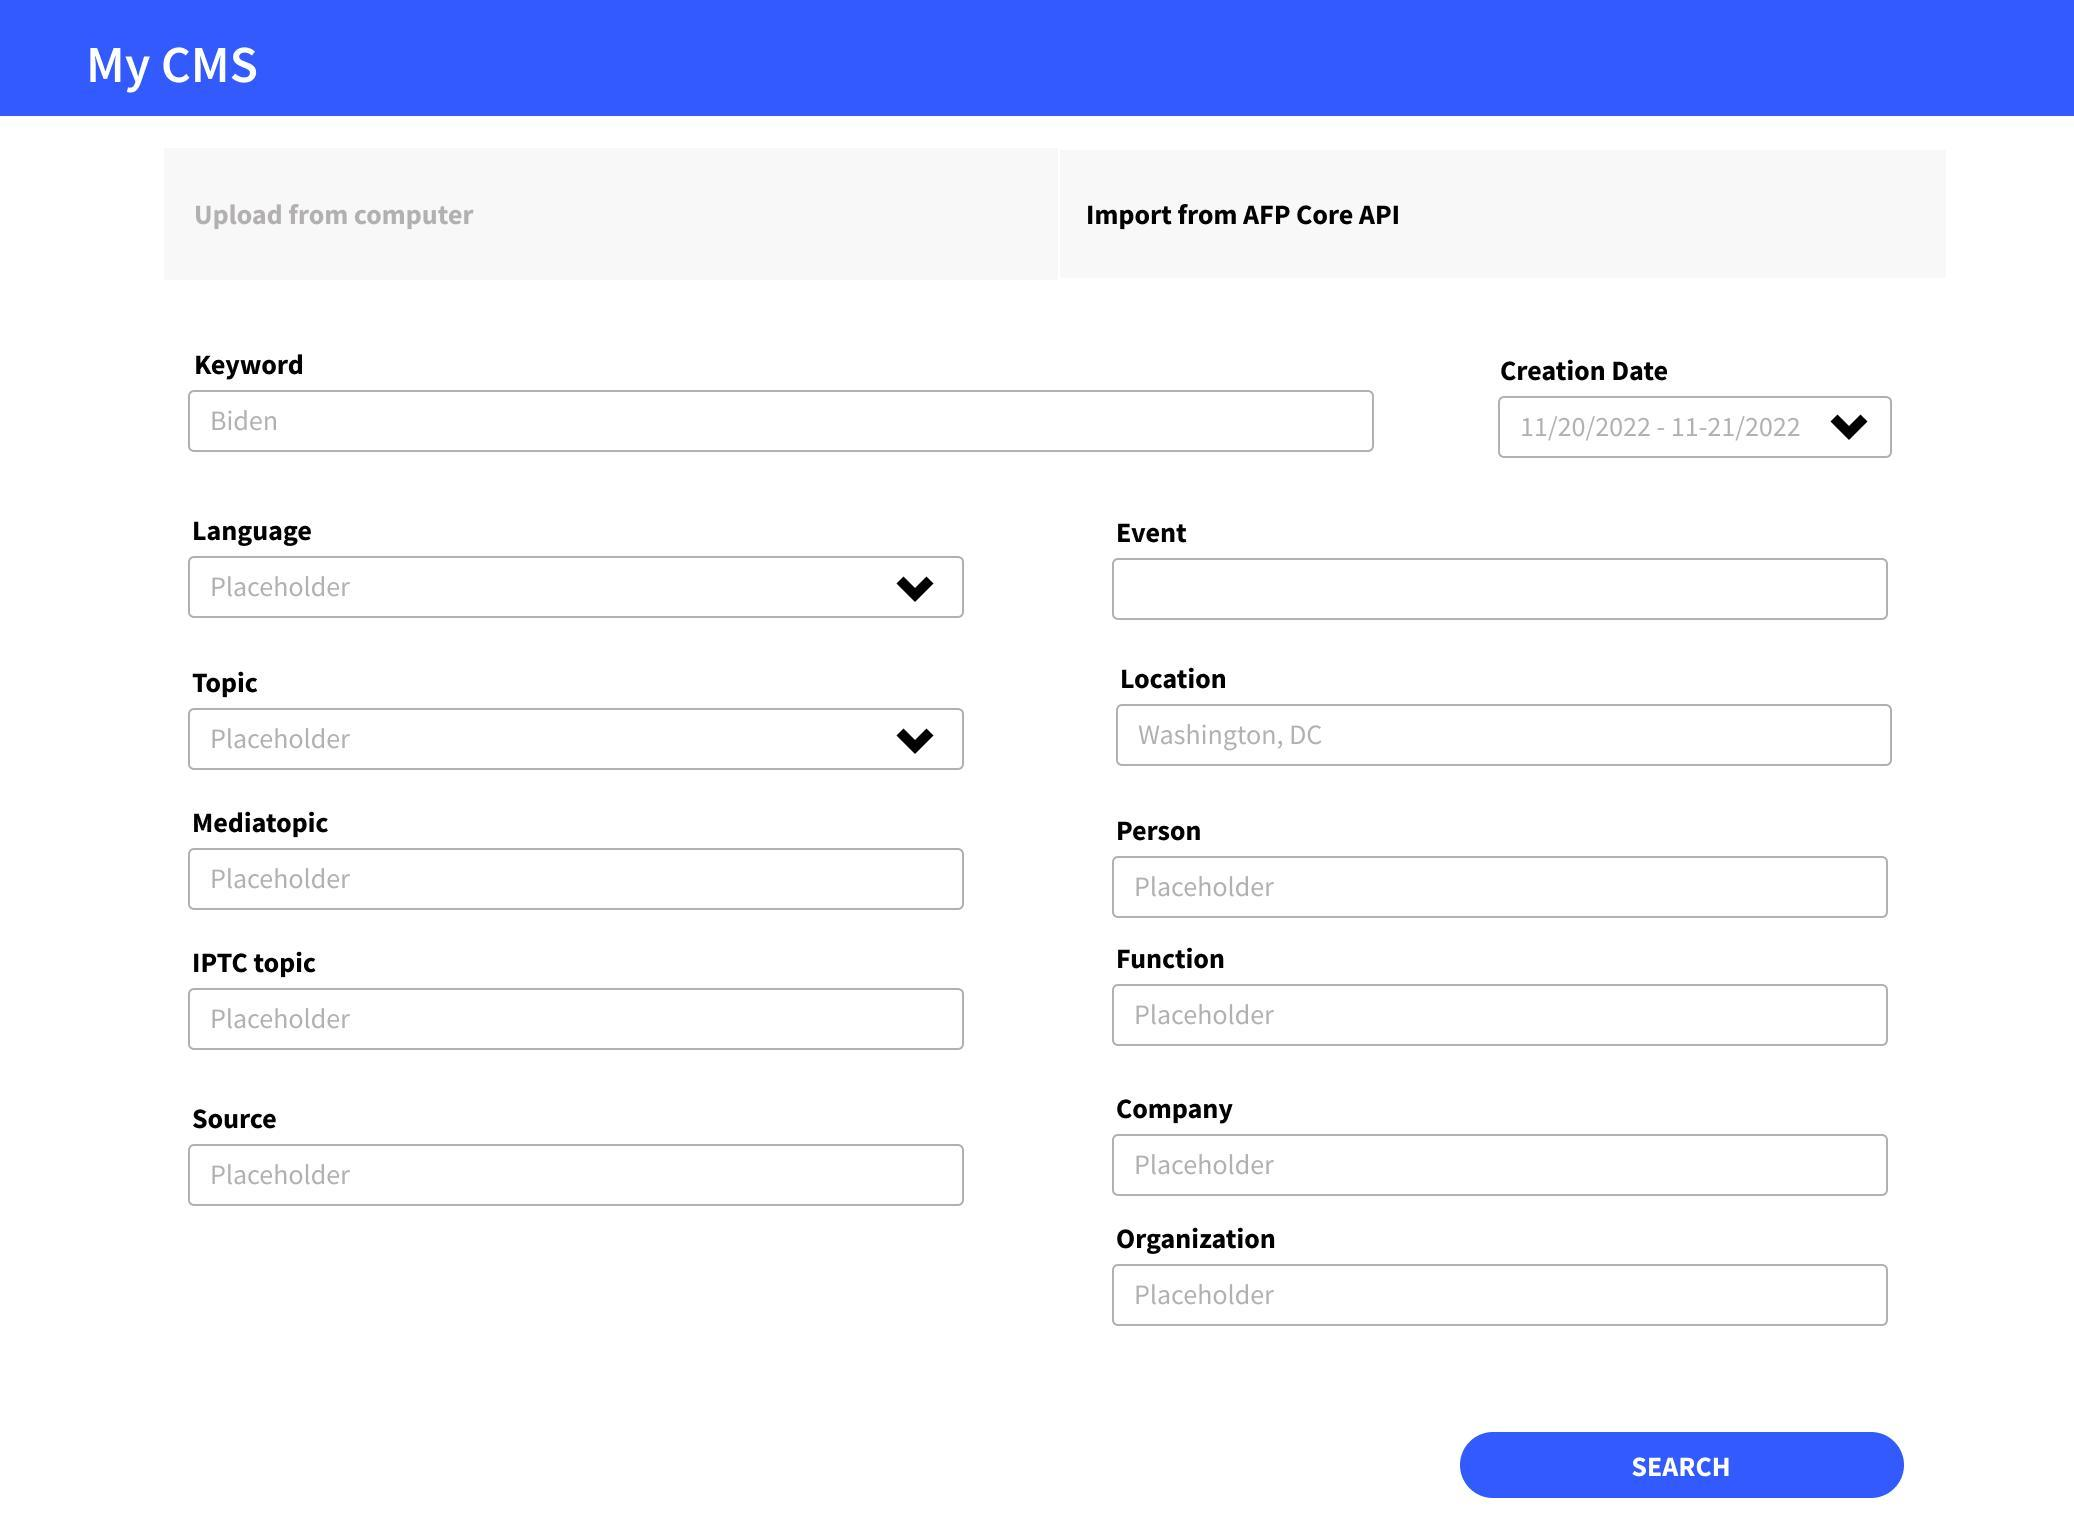button: (1460, 1434, 1910, 1500)
dropdown: (188, 707, 966, 772), (188, 557, 966, 620), (1499, 396, 1894, 459)
input: (188, 391, 1377, 454), (1113, 984, 1890, 1049), (1113, 855, 1890, 920), (1116, 704, 1894, 768), (1113, 557, 1890, 622), (1113, 1134, 1889, 1199), (1113, 1265, 1890, 1327), (188, 988, 965, 1050), (188, 1145, 965, 1208), (188, 849, 966, 910)
label: (1486, 351, 1675, 391), (1113, 1224, 1282, 1260), (185, 805, 340, 843), (179, 947, 325, 984), (190, 346, 316, 382), (187, 517, 317, 549), (1121, 664, 1232, 698), (1114, 1095, 1240, 1124), (1114, 946, 1230, 975), (1109, 517, 1196, 554), (1114, 814, 1204, 849), (187, 664, 266, 704), (188, 1104, 282, 1136)
